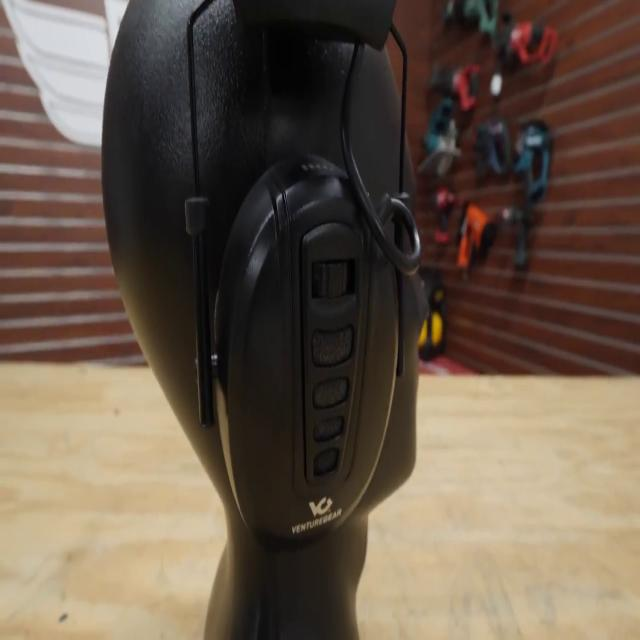earmuff: (206, 138, 406, 561)
